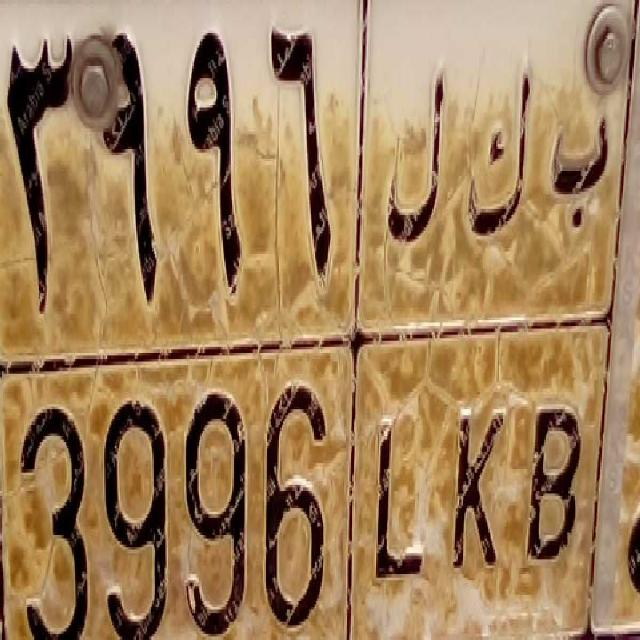license_plate: (7, 366, 596, 640)
